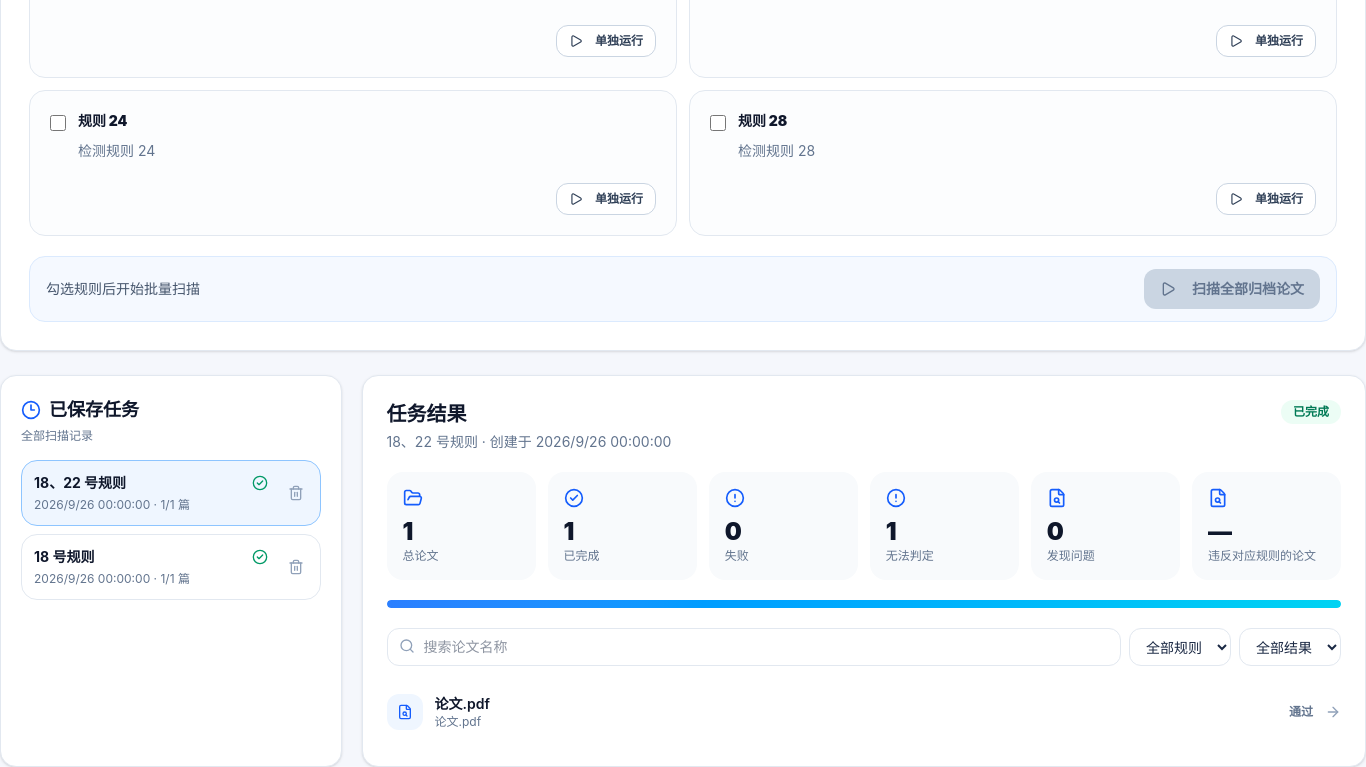
Test case: archive scan page › clears an old rule filter when switching to a job that did not run that rule
(page scrolled)
Expected: the link "论文.pdf 论文.pdf 通过" is shown, [386,682,1341,742]
Select "规则 22" in the dropdown named "按规则筛选". click: x=1180, y=647
box: [1129,628,1231,666]
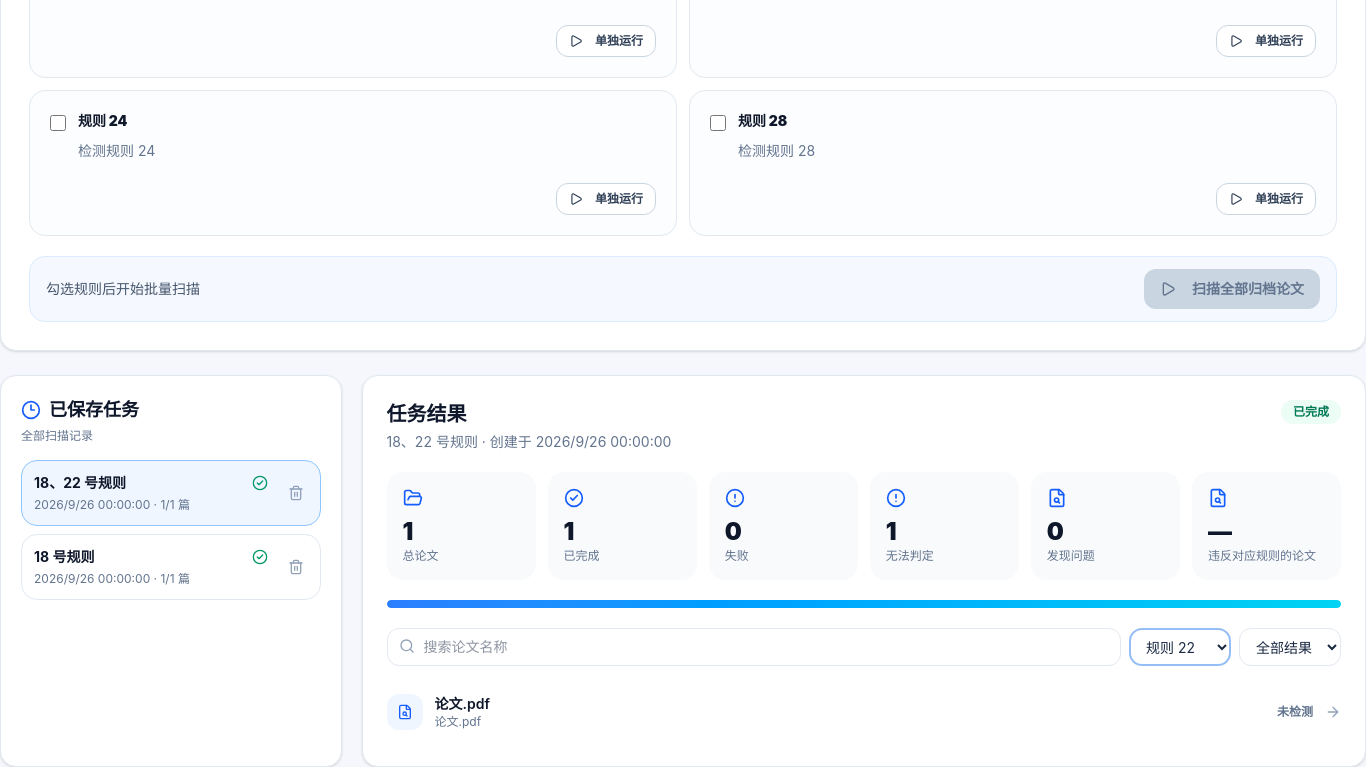
Click the button "18 号规则 2026/9/26 00:00:00 · 1/1 篇". click: x=151, y=567
box: [22,535,280,599]
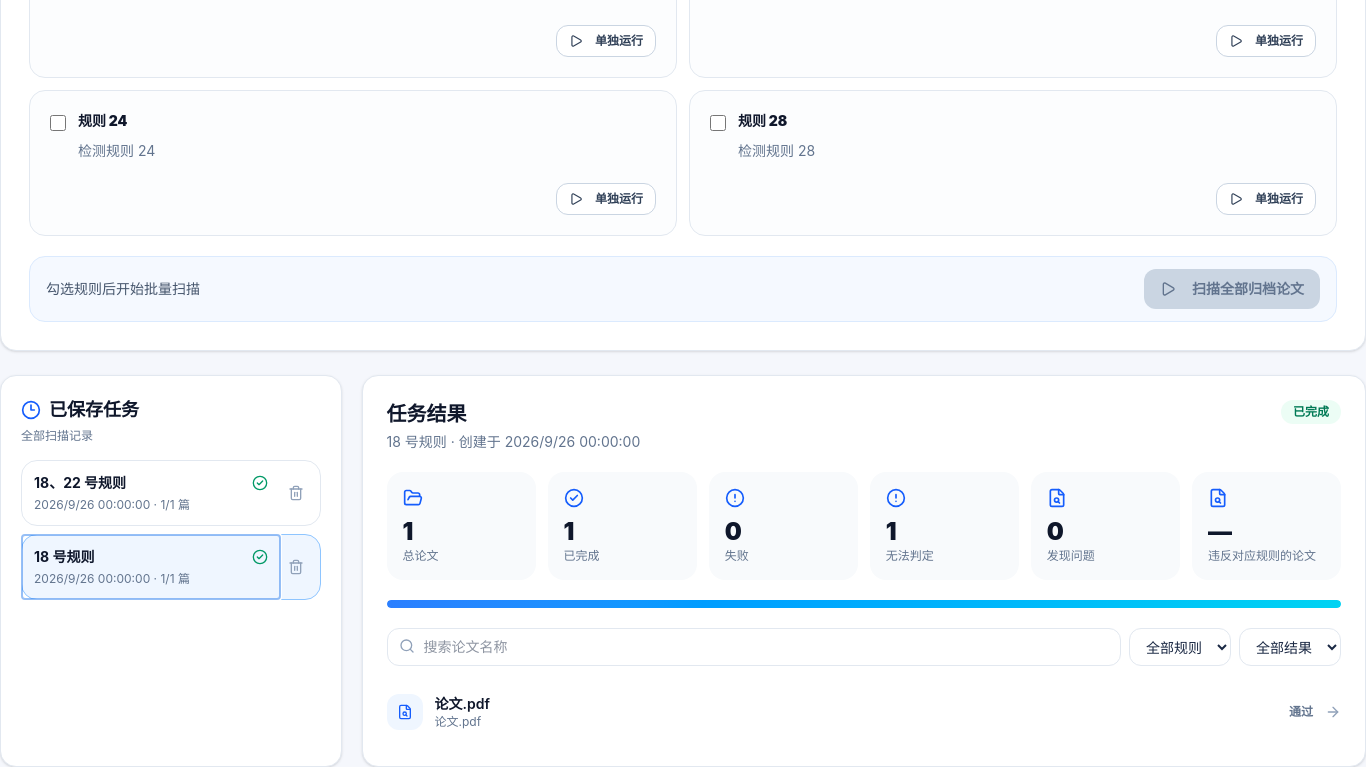
Expected: the link "论文.pdf 论文.pdf 通过" is shown, [386,682,1341,742]
Result: the dropdown named "按规则筛选" shows "全部规则" at [1129,628,1231,666]
